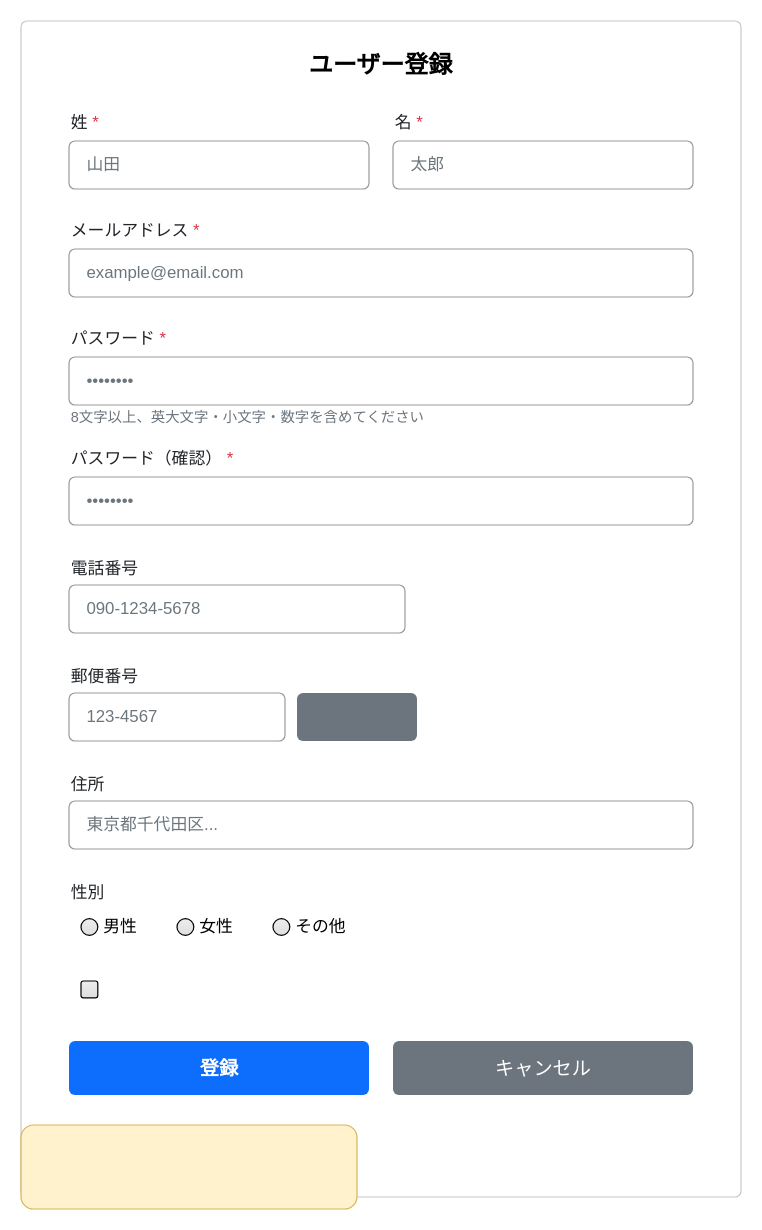
Image size: 762x1230. Some labels were removed from this diagram. The centre of each missing label's shape, as x and y in pixels:
フォームグループ構成： label + input のペアで Bootstrap の form-group パターンを採用 * は必須項目: the point at 188,1166
住所検索: the point at 356,716
利用規約に同意する: the point at 89,989
